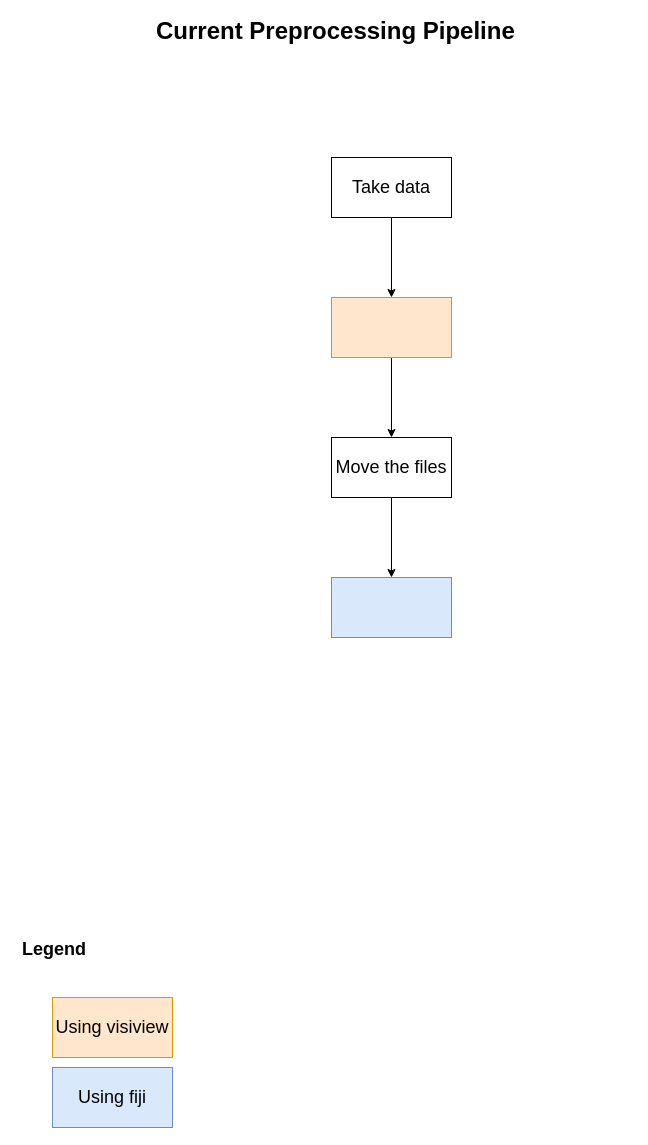
Image size: 648x1145. Some labels were removed from this diagram. The shapes that lost their labels are listed below. From the top down, each one's centre as x and y in pixels, then its label:
At point 391,327: "Crop using GUI".
At point 391,607: "Save as OME-TIFF".
